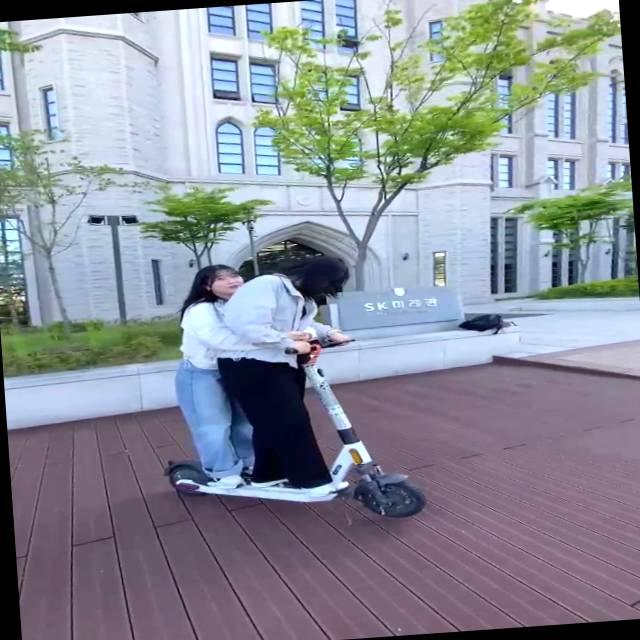bare_head: (281, 249, 350, 302), (185, 261, 248, 301)
human: (225, 247, 344, 491), (159, 259, 252, 487)
kickboard: (157, 449, 428, 523)
